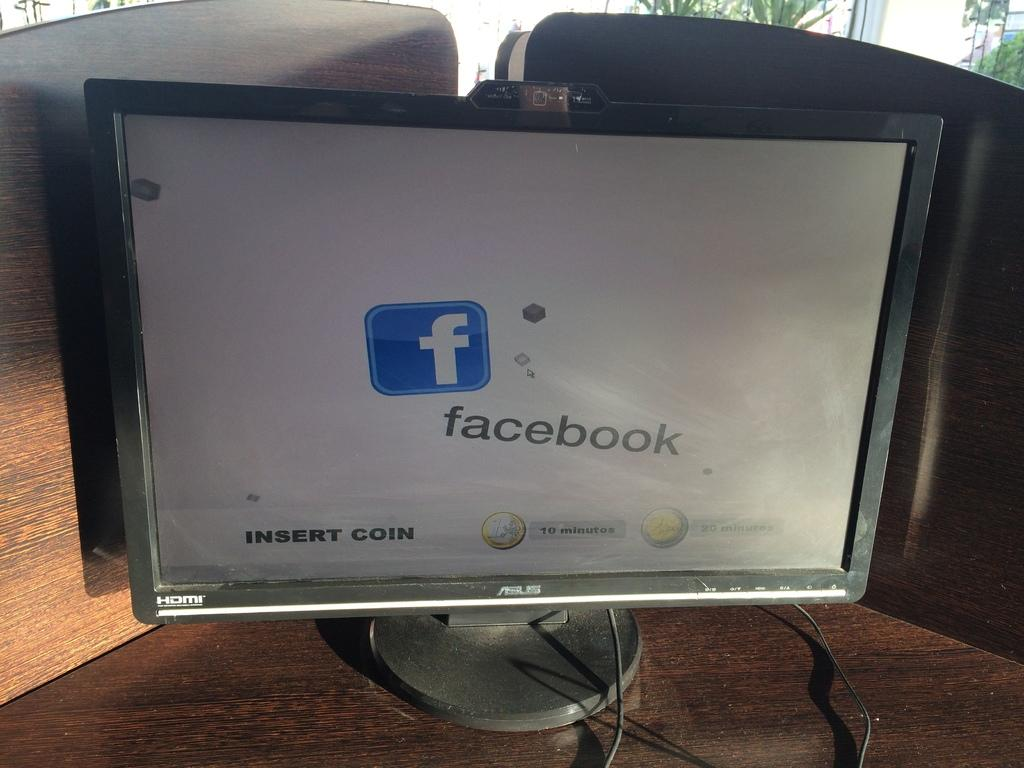Computer-monitor: (84, 74, 945, 733)
